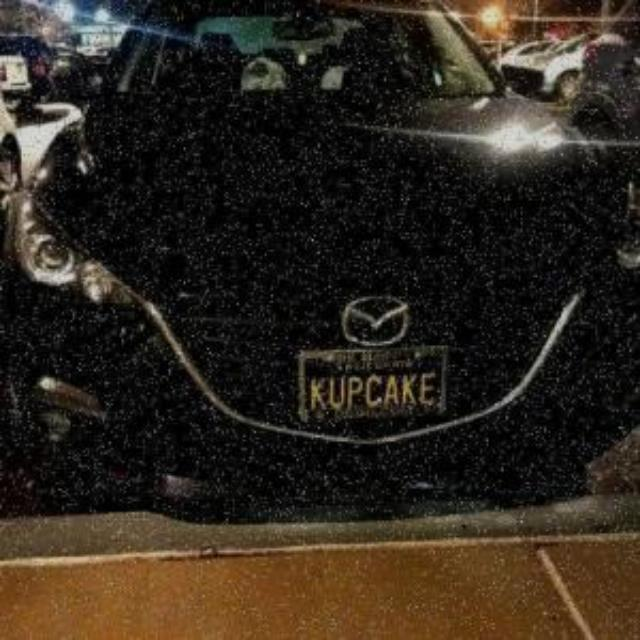License Plate: (296, 345, 450, 421)
